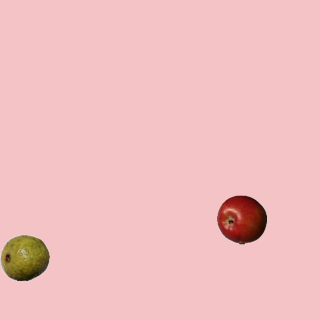Apple Braeburn: (216, 194, 266, 244)
Guava: (0, 232, 49, 282)
